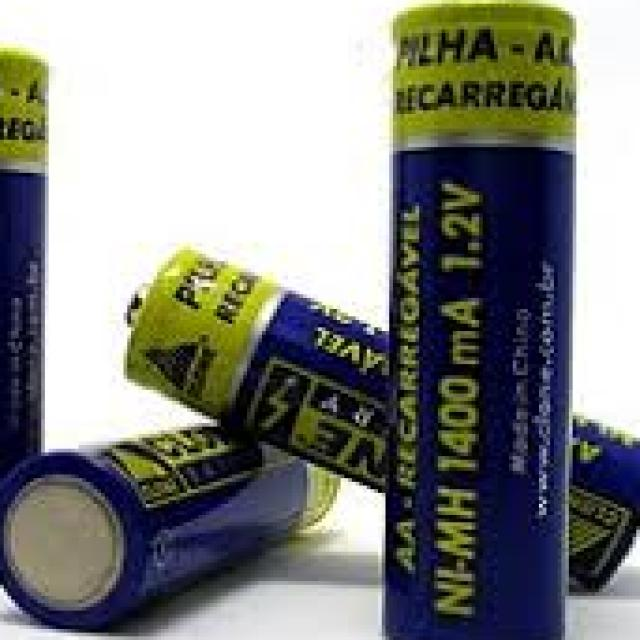organic: (126, 222, 638, 566), (374, 79, 614, 636), (12, 382, 351, 637)
